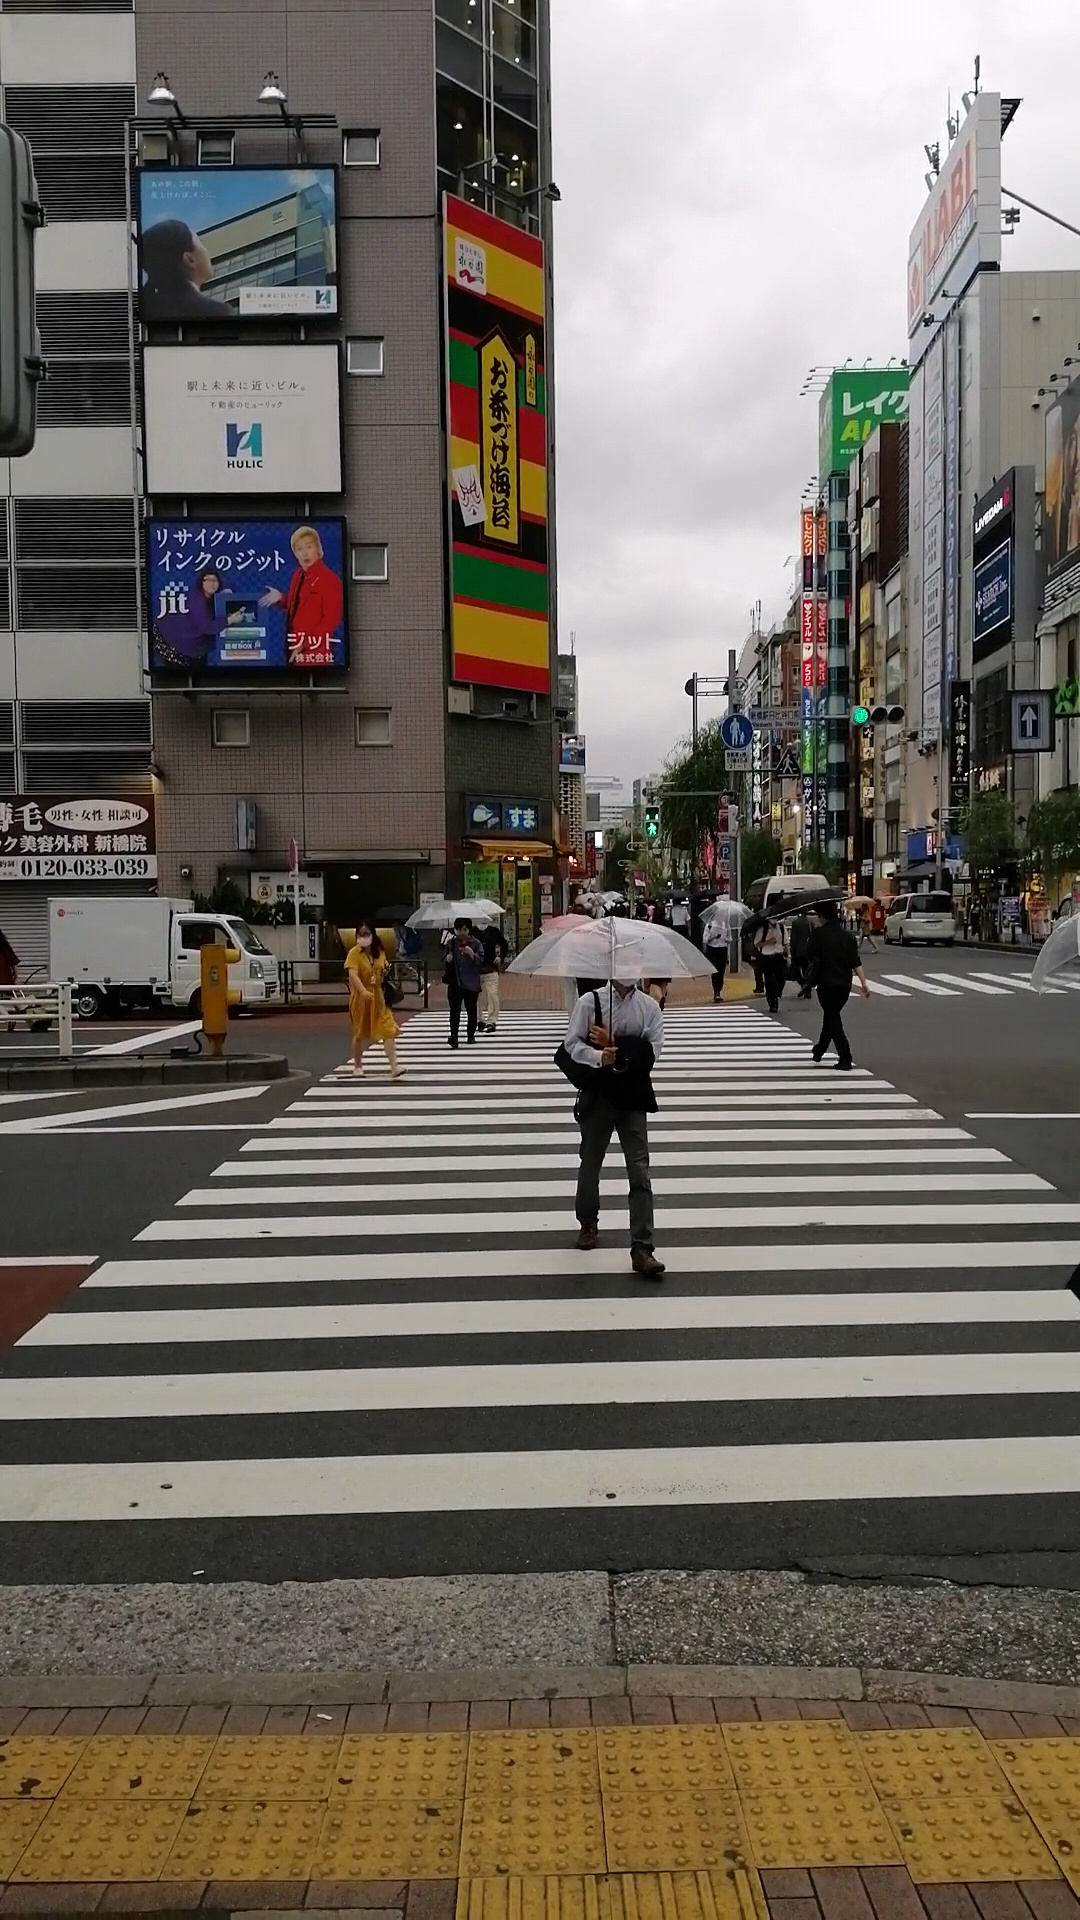green: (641, 803, 662, 840)
